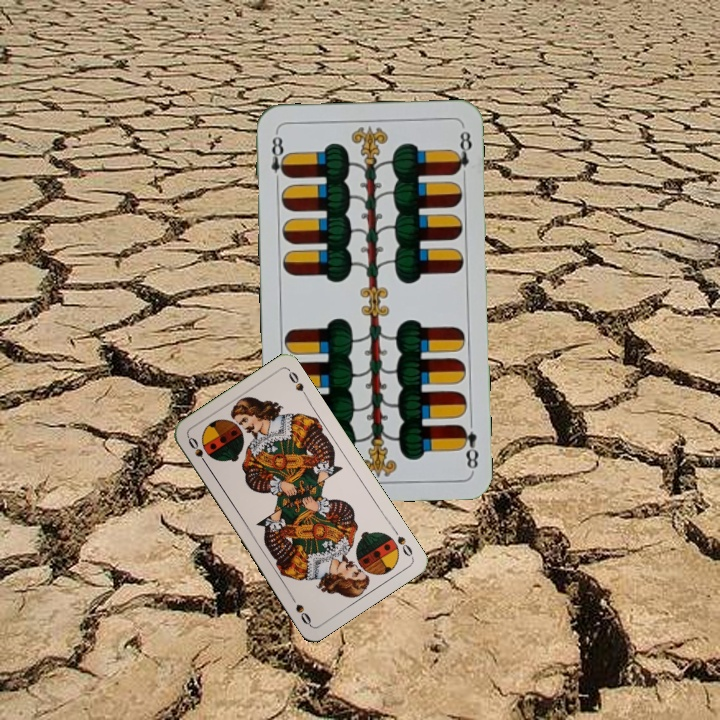E8: (456, 420, 482, 473), (267, 129, 290, 188)
SO: (184, 433, 211, 469), (389, 524, 416, 560)
